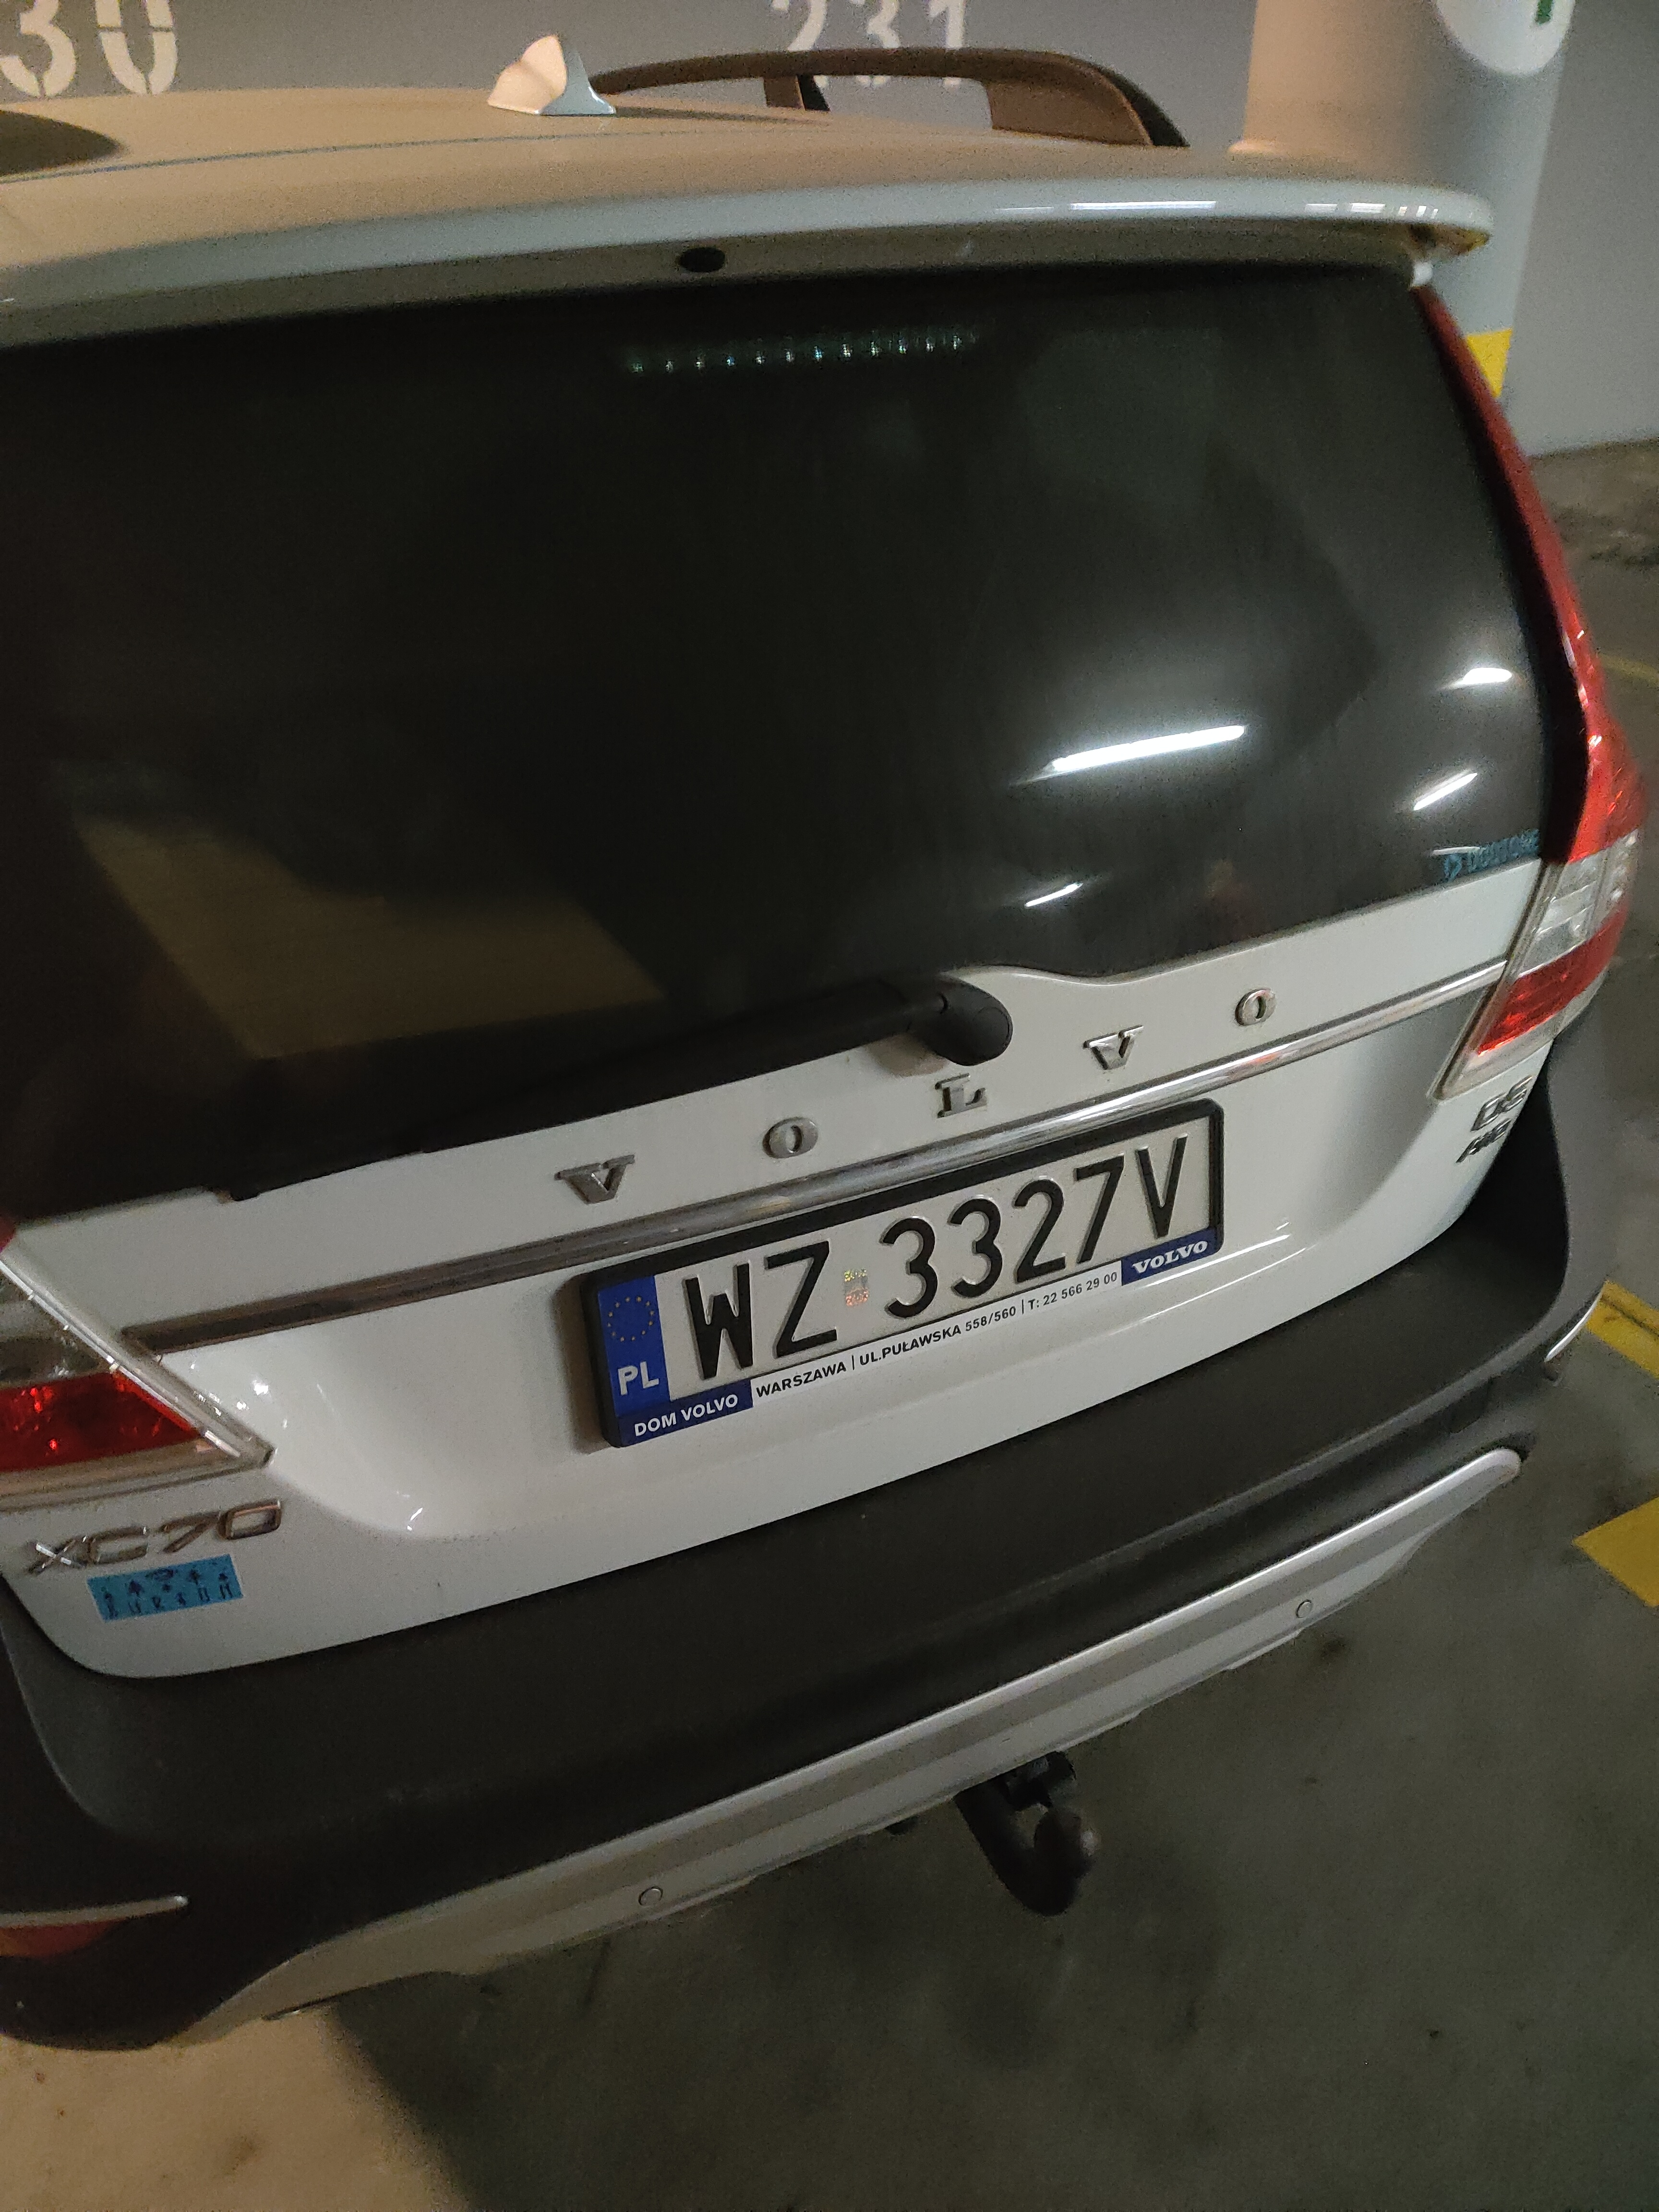number_plate: (589, 1113, 1228, 1440)
